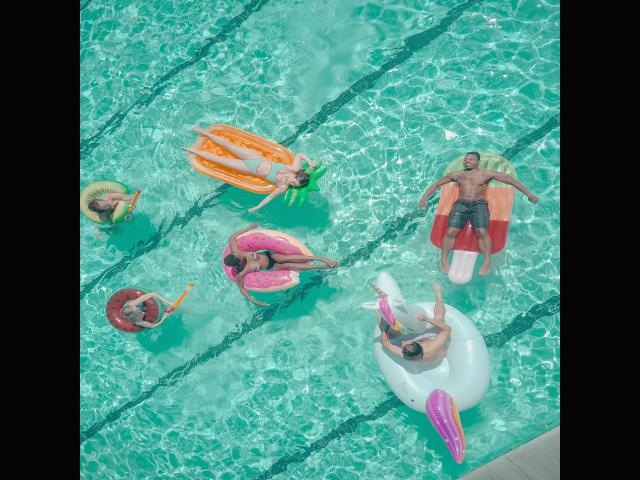swimming: (188, 110, 308, 202), (215, 232, 342, 300), (438, 146, 505, 274), (366, 298, 446, 362), (110, 284, 188, 338), (84, 176, 149, 220)
